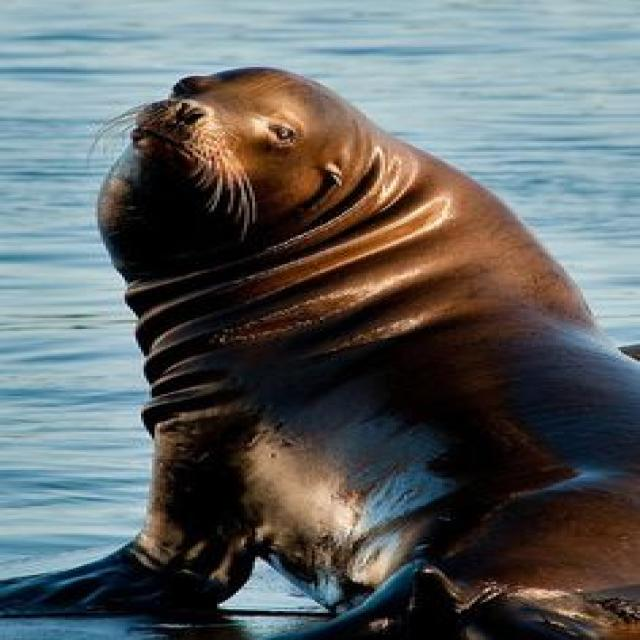Carnivorous: (0, 67, 640, 640)
